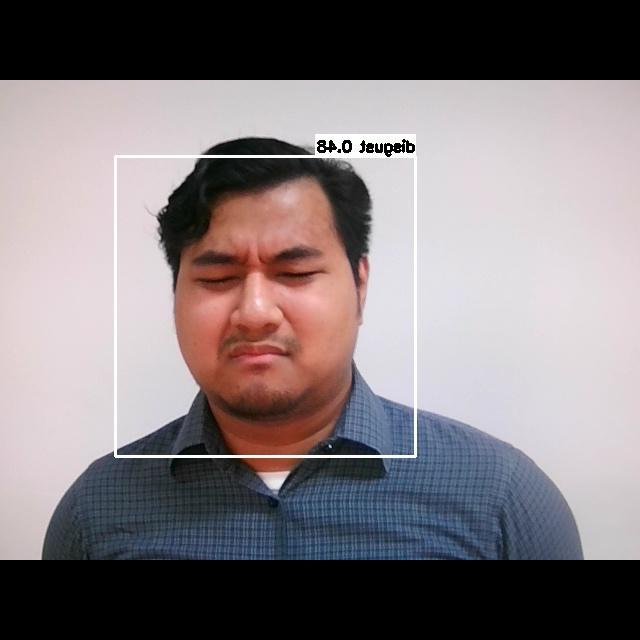Disgust: (179, 226, 347, 395)
